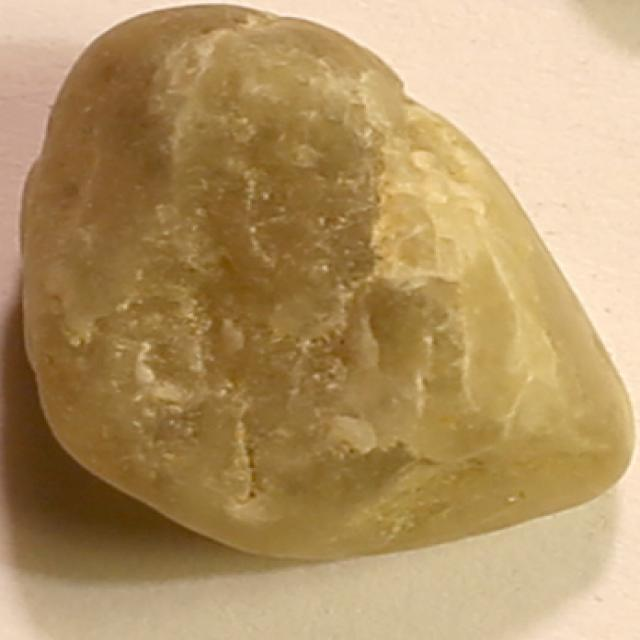stone: (8, 2, 640, 566)
